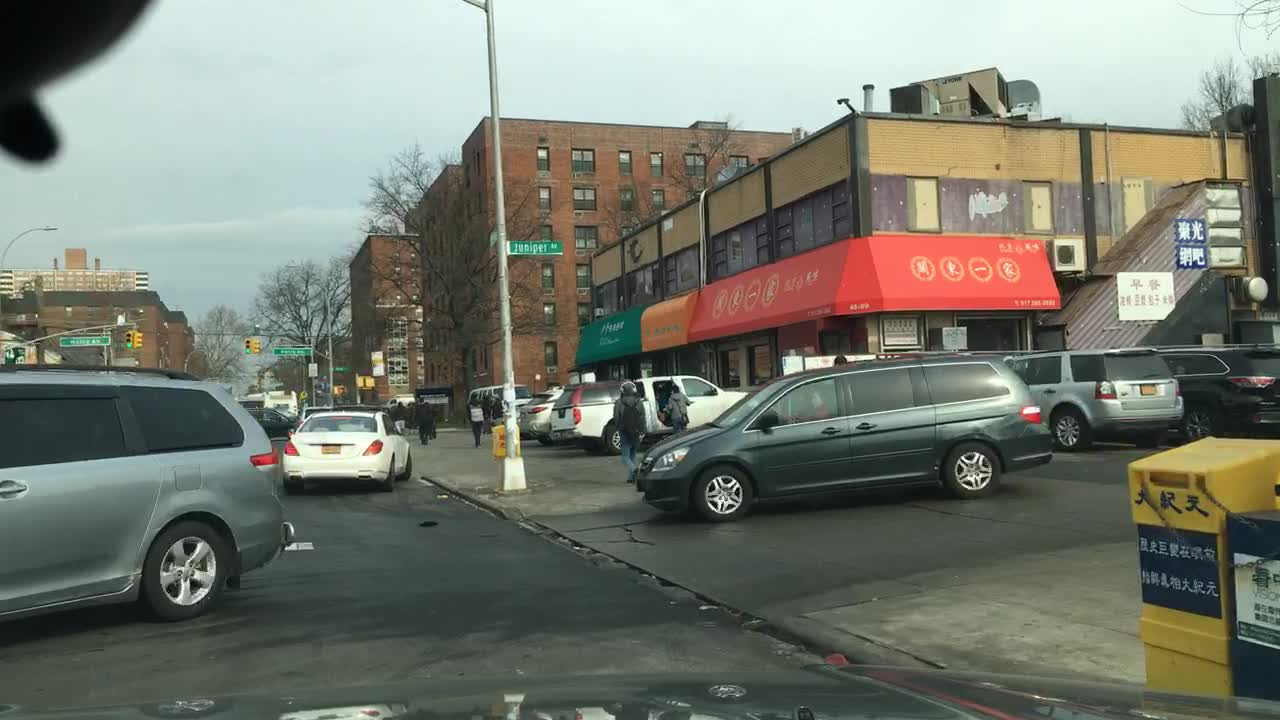car: (1, 364, 295, 624), (635, 353, 1052, 521), (1009, 348, 1184, 451), (547, 373, 748, 454), (281, 409, 413, 491), (1165, 348, 1279, 439), (523, 380, 562, 448), (249, 405, 293, 436), (495, 381, 534, 401)
person: (616, 378, 646, 483), (665, 381, 694, 434), (415, 389, 439, 443), (465, 392, 486, 445), (382, 397, 403, 433), (480, 387, 495, 422), (424, 399, 436, 438), (395, 400, 409, 431), (490, 389, 501, 418), (835, 356, 848, 365)
traffic light: (136, 327, 145, 350), (125, 332, 135, 349), (362, 378, 374, 389), (244, 338, 251, 356), (252, 338, 259, 356), (334, 387, 346, 394), (356, 378, 364, 387)
traffic sign: (509, 239, 563, 252), (271, 344, 312, 356), (58, 336, 110, 345), (326, 366, 346, 373)
